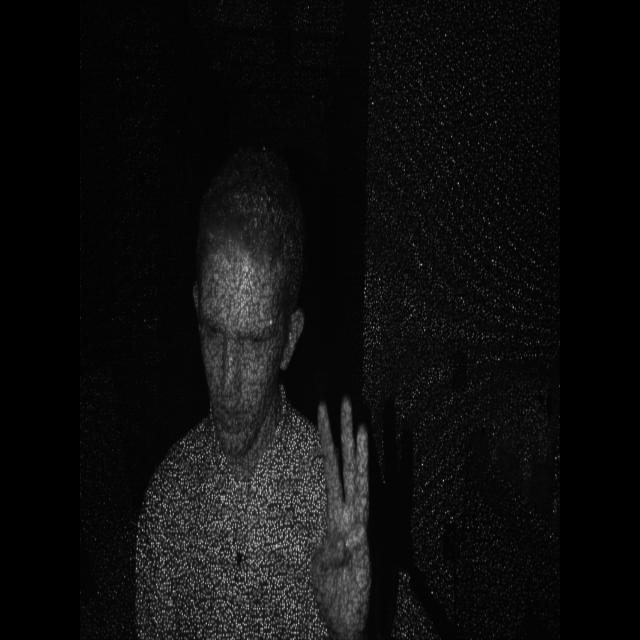W: (305, 371, 384, 640)
